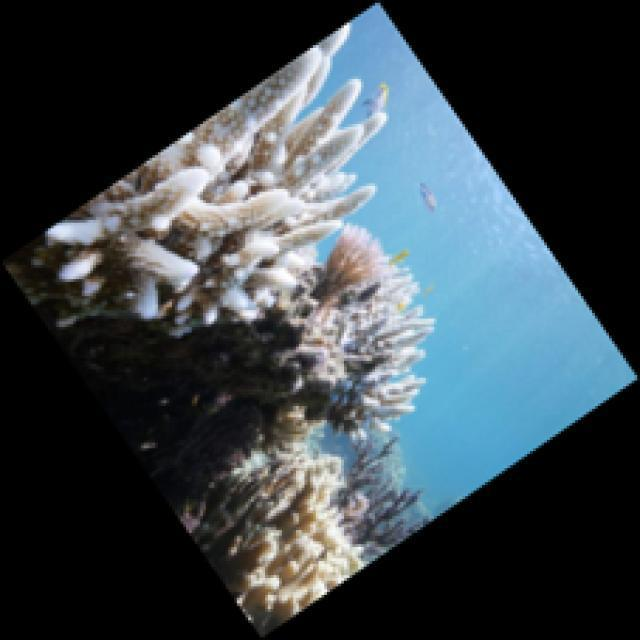Bleached: (46, 22, 388, 326), (214, 455, 369, 640), (320, 262, 433, 442), (321, 226, 388, 306)
